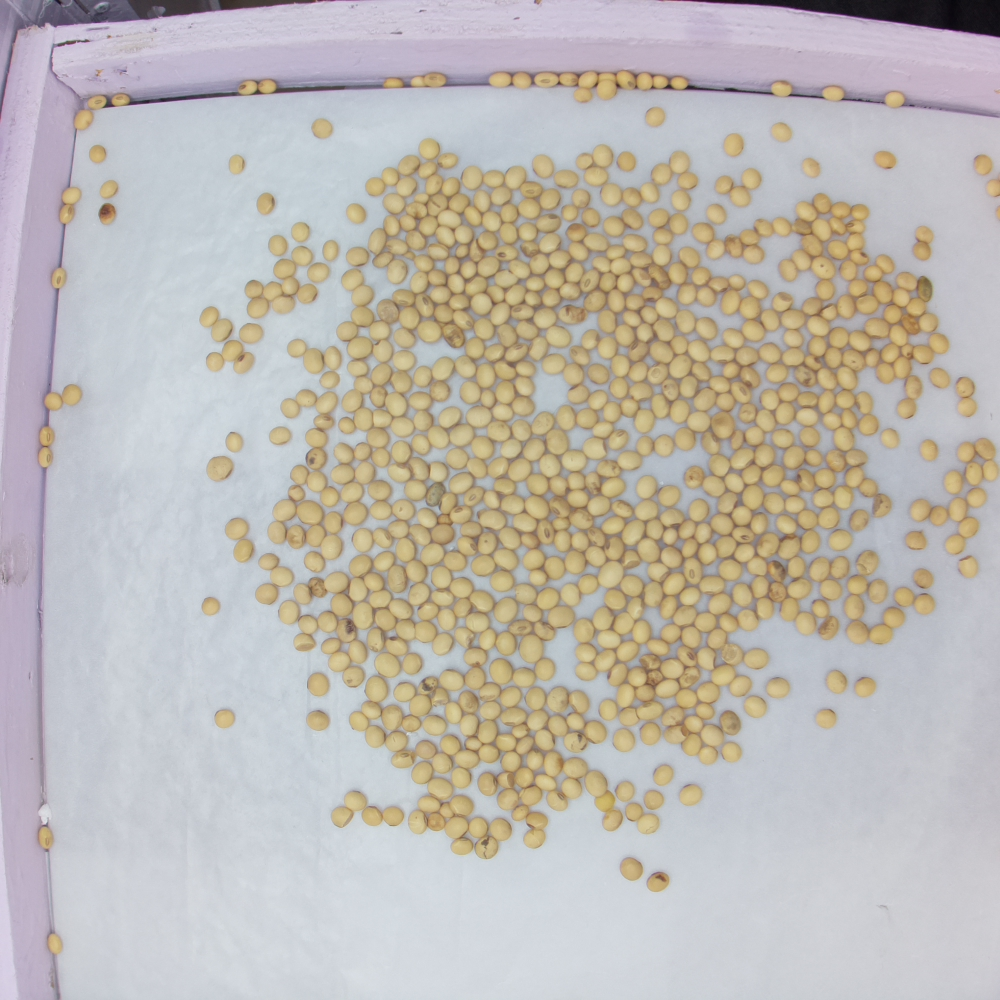soya: (207, 456, 233, 482), (374, 653, 399, 679), (519, 635, 542, 663), (537, 453, 563, 477), (572, 620, 598, 644), (598, 561, 621, 588), (712, 412, 735, 439), (490, 659, 512, 687), (546, 326, 571, 349), (324, 572, 350, 594), (811, 256, 835, 279), (525, 495, 548, 519), (508, 459, 531, 483), (494, 598, 517, 622), (584, 772, 607, 796), (533, 307, 558, 329), (719, 711, 741, 736), (419, 544, 444, 566), (765, 678, 791, 699), (478, 510, 505, 530), (622, 521, 645, 544), (469, 293, 492, 316), (211, 319, 234, 342), (696, 316, 718, 340), (487, 421, 511, 443), (568, 509, 592, 531), (761, 465, 785, 487), (524, 828, 548, 850), (679, 784, 701, 808), (633, 500, 658, 521), (743, 485, 764, 510), (827, 529, 852, 550), (297, 502, 322, 523), (278, 600, 299, 625), (562, 758, 587, 779), (548, 607, 573, 628), (525, 685, 545, 711), (720, 290, 739, 317), (367, 676, 386, 703), (354, 601, 371, 631), (694, 389, 717, 411), (619, 399, 641, 422), (531, 413, 554, 435), (504, 283, 526, 306), (662, 573, 685, 595), (737, 609, 759, 632), (744, 696, 767, 718), (408, 582, 430, 605), (245, 297, 268, 319), (865, 319, 889, 340), (843, 349, 864, 373), (649, 341, 673, 362), (609, 354, 630, 378), (474, 318, 495, 342), (492, 549, 516, 570), (669, 399, 690, 423), (729, 449, 753, 470), (731, 582, 752, 606), (271, 500, 295, 521), (653, 765, 674, 789), (547, 250, 572, 270), (546, 429, 566, 454), (653, 434, 673, 459), (676, 427, 696, 452), (305, 711, 330, 731), (616, 452, 642, 471), (836, 427, 854, 454), (543, 353, 565, 375), (431, 358, 453, 380), (438, 407, 460, 429), (406, 560, 428, 582), (526, 475, 549, 496), (758, 533, 779, 556), (779, 535, 800, 558), (418, 322, 441, 343), (385, 393, 406, 416), (470, 438, 493, 459), (255, 583, 278, 604), (513, 667, 536, 688), (462, 668, 485, 689), (445, 816, 468, 837), (631, 620, 652, 643), (532, 154, 552, 178), (504, 343, 528, 363), (562, 451, 586, 471), (512, 397, 536, 417), (565, 551, 585, 575), (655, 319, 675, 343), (848, 621, 868, 645), (321, 535, 341, 559), (339, 483, 363, 503), (439, 670, 463, 690), (621, 858, 641, 882), (490, 302, 509, 327), (556, 406, 575, 431), (603, 807, 622, 832), (305, 349, 323, 375), (636, 703, 662, 721), (608, 663, 626, 689), (801, 235, 823, 256), (688, 340, 709, 362), (587, 364, 608, 386), (493, 360, 515, 381), (638, 539, 659, 561), (670, 355, 691, 377), (710, 515, 732, 536), (639, 723, 660, 745), (413, 410, 435, 431), (349, 555, 370, 577), (354, 461, 375, 483), (491, 818, 512, 840), (344, 791, 366, 812), (365, 726, 386, 748), (782, 447, 804, 468), (616, 639, 637, 661), (584, 722, 606, 743), (419, 137, 439, 160), (837, 367, 857, 390), (587, 391, 610, 411), (495, 381, 515, 404), (620, 209, 643, 229), (744, 650, 767, 670), (855, 676, 875, 699), (316, 390, 336, 413), (344, 503, 364, 526), (234, 353, 254, 376), (362, 805, 382, 828), (387, 261, 406, 285), (593, 144, 612, 168), (615, 324, 634, 348), (598, 310, 617, 334), (684, 467, 703, 491), (810, 557, 829, 581), (330, 464, 354, 483), (415, 293, 434, 317), (477, 774, 496, 798), (646, 871, 670, 890), (796, 612, 814, 637), (430, 526, 455, 544), (389, 564, 405, 592), (544, 752, 561, 778), (807, 316, 828, 337), (829, 327, 850, 348), (849, 331, 870, 352), (679, 247, 700, 268), (658, 486, 679, 507), (621, 576, 642, 597), (870, 625, 891, 646), (472, 591, 493, 612), (279, 399, 300, 420), (403, 654, 424, 675), (798, 426, 819, 447), (594, 650, 615, 671), (478, 720, 499, 741), (398, 154, 418, 176), (307, 263, 327, 285), (461, 166, 481, 188), (583, 292, 605, 312), (816, 368, 836, 390), (759, 342, 781, 362), (677, 284, 697, 306), (652, 245, 672, 267), (500, 439, 522, 459), (484, 343, 504, 365), (561, 584, 581, 606), (588, 496, 610, 516), (717, 493, 739, 513), (696, 682, 718, 702), (447, 448, 467, 470), (392, 500, 414, 520), (225, 517, 247, 537), (232, 540, 252, 562), (412, 762, 432, 784), (415, 622, 435, 644), (344, 667, 364, 689), (594, 609, 614, 631), (637, 814, 659, 834), (239, 324, 262, 343), (566, 347, 589, 366), (515, 321, 538, 340), (602, 478, 625, 497), (456, 356, 475, 379), (465, 277, 488, 296), (687, 413, 710, 432), (776, 402, 795, 425), (788, 578, 811, 597), (682, 734, 701, 757), (656, 680, 679, 699), (398, 307, 417, 330), (407, 457, 426, 480), (352, 529, 371, 552), (343, 390, 362, 413), (385, 732, 408, 751), (332, 593, 351, 616), (725, 132, 743, 156), (710, 666, 734, 684), (662, 726, 686, 744), (270, 568, 294, 586), (464, 649, 488, 667), (428, 780, 452, 798), (615, 729, 633, 753), (684, 559, 701, 584), (312, 119, 333, 139), (383, 195, 404, 215), (519, 198, 539, 219), (800, 157, 820, 178), (858, 416, 878, 437), (743, 321, 764, 341), (740, 298, 760, 319), (697, 286, 717, 307), (496, 325, 517, 345), (549, 497, 569, 518), (612, 499, 632, 520), (731, 382, 751, 403), (708, 456, 729, 476), (719, 560, 740, 580), (714, 538, 735, 558), (675, 607, 696, 627), (410, 524, 430, 545), (303, 551, 323, 572), (198, 306, 218, 327), (409, 696, 430, 716), (432, 567, 452, 588), (317, 612, 338, 632), (308, 674, 329, 694), (754, 446, 774, 467), (605, 589, 625, 610), (560, 778, 581, 798), (594, 792, 615, 812), (584, 167, 606, 186), (781, 310, 803, 329), (692, 223, 714, 242), (598, 337, 617, 359), (609, 378, 628, 400), (601, 517, 623, 536), (584, 439, 606, 458), (736, 347, 758, 366), (766, 365, 788, 384), (689, 500, 708, 522), (731, 676, 750, 698), (849, 510, 868, 532), (661, 660, 683, 679), (391, 418, 413, 437), (472, 555, 494, 574), (347, 338, 369, 357), (268, 427, 290, 446), (222, 341, 241, 363), (501, 685, 520, 707), (458, 692, 477, 714), (381, 706, 400, 728), (389, 600, 411, 619), (573, 663, 595, 682), (569, 690, 588, 712), (621, 236, 647, 252), (668, 263, 686, 286), (676, 309, 694, 332), (494, 269, 517, 287), (636, 477, 654, 500), (660, 509, 683, 527), (833, 487, 851, 510), (827, 671, 845, 694), (662, 707, 685, 725), (287, 525, 305, 548), (450, 797, 473, 815), (597, 631, 620, 649), (548, 691, 566, 714), (324, 346, 341, 370), (529, 337, 546, 361), (367, 482, 391, 499), (455, 750, 479, 767), (410, 811, 427, 835), (349, 577, 366, 601), (904, 299, 928, 316), (626, 597, 643, 621), (345, 205, 365, 225), (341, 269, 361, 289), (478, 256, 498, 276), (656, 298, 676, 318), (560, 282, 580, 302), (544, 269, 564, 289), (540, 189, 560, 209), (648, 363, 668, 383), (710, 594, 730, 614), (846, 595, 862, 620), (428, 426, 448, 446), (451, 578, 471, 598), (347, 308, 372, 324), (328, 651, 348, 671), (565, 262, 584, 283), (601, 184, 620, 205), (874, 282, 893, 303), (545, 557, 564, 578), (703, 477, 724, 496), (763, 494, 784, 513), (707, 628, 726, 649), (701, 725, 722, 744), (443, 553, 464, 572), (372, 363, 391, 384), (451, 769, 472, 788), (396, 682, 415, 703), (396, 539, 415, 560), (370, 590, 389, 611), (519, 786, 540, 805), (346, 248, 368, 266), (505, 166, 523, 188), (855, 392, 873, 414), (564, 363, 582, 385), (751, 577, 769, 599), (336, 443, 354, 465), (268, 523, 286, 545), (536, 659, 554, 681), (496, 791, 518, 809), (616, 781, 634, 803), (870, 580, 887, 603), (796, 469, 813, 492), (796, 409, 819, 426), (616, 685, 633, 708), (369, 228, 384, 254), (477, 364, 493, 388), (700, 578, 724, 594), (422, 718, 446, 734), (819, 391, 835, 415), (396, 177, 416, 196), (298, 284, 317, 304), (651, 164, 670, 184), (771, 122, 790, 142), (511, 420, 530, 440), (577, 409, 596, 429), (500, 529, 519, 549), (464, 487, 483, 507), (761, 390, 780, 410), (747, 558, 766, 578), (818, 509, 838, 528), (820, 581, 840, 600), (721, 742, 741, 761), (429, 462, 448, 482), (417, 508, 436, 528), (338, 323, 358, 342), (500, 752, 519, 772), (348, 712, 368, 731), (374, 552, 394, 571), (396, 620, 415, 640), (897, 272, 917, 291), (535, 731, 554, 751), (472, 191, 490, 212), (582, 271, 600, 292), (670, 152, 688, 173), (742, 168, 760, 189), (748, 281, 769, 299), (807, 335, 825, 356), (652, 228, 673, 246), (607, 431, 628, 449), (465, 338, 483, 359), (723, 329, 744, 347), (739, 368, 760, 386), (757, 410, 775, 431), (414, 367, 432, 388), (321, 486, 339, 507), (382, 809, 403, 827), (434, 634, 452, 655), (535, 775, 556, 793), (644, 791, 665, 809), (501, 711, 526, 726), (605, 217, 622, 239), (501, 497, 523, 514), (661, 378, 678, 400), (756, 598, 773, 620), (802, 530, 819, 552), (409, 393, 431, 410), (450, 507, 472, 524), (354, 408, 371, 430), (450, 838, 472, 855), (889, 325, 906, 347), (461, 714, 478, 736), (537, 216, 560, 232), (584, 234, 607, 250), (711, 346, 734, 362), (616, 612, 632, 635), (568, 242, 587, 261), (566, 385, 585, 404), (602, 403, 621, 422), (745, 426, 764, 445), (773, 429, 792, 448), (274, 259, 294, 277), (449, 194, 469, 212), (464, 207, 482, 227), (492, 185, 510, 205), (483, 211, 501, 231), (540, 234, 560, 252), (796, 202, 816, 220), (828, 241, 848, 259), (839, 260, 857, 280), (568, 490, 588, 508), (578, 575, 598, 593), (536, 590, 556, 608), (437, 227, 455, 247), (652, 395, 667, 419), (736, 545, 756, 563), (718, 615, 738, 633), (781, 599, 796, 623), (815, 468, 833, 488), (323, 513, 341, 533), (440, 736, 460, 754), (526, 811, 546, 829), (516, 736, 534, 756), (520, 181, 541, 198), (508, 260, 529, 277), (743, 246, 764, 263), (816, 279, 833, 300), (486, 284, 503, 305), (572, 188, 589, 209), (788, 557, 805, 578), (799, 509, 816, 530), (648, 639, 669, 656), (306, 429, 327, 446), (547, 794, 568, 811), (438, 211, 460, 227), (607, 291, 623, 313), (571, 531, 587, 553), (597, 461, 619, 477), (708, 377, 730, 393), (732, 528, 754, 544), (832, 557, 848, 579), (430, 286, 452, 302), (393, 752, 415, 768), (526, 712, 548, 728), (599, 700, 615, 722), (814, 219, 829, 242), (511, 305, 534, 320), (256, 194, 274, 213), (291, 223, 309, 242), (268, 236, 286, 255), (291, 247, 310, 265), (499, 224, 517, 243), (616, 152, 635, 170), (707, 204, 725, 223), (877, 254, 895, 273), (784, 348, 803, 366), (784, 330, 803, 348), (580, 330, 599, 348), (541, 289, 559, 308), (848, 575, 867, 593), (816, 709, 835, 727), (677, 690, 696, 708), (660, 625, 679, 643), (439, 494, 458, 512), (433, 305, 452, 323), (454, 311, 472, 330), (418, 602, 437, 620), (388, 521, 407, 539), (912, 242, 931, 260), (576, 644, 595, 662), (548, 715, 567, 733), (646, 107, 663, 127), (754, 219, 774, 236), (793, 251, 810, 271), (884, 304, 901, 324), (648, 209, 668, 226), (492, 404, 512, 421), (582, 207, 599, 227), (566, 223, 586, 240), (739, 403, 756, 423), (733, 506, 750, 526), (695, 703, 715, 720), (295, 390, 315, 407), (293, 584, 310, 604), (415, 742, 435, 759), (470, 818, 487, 838), (361, 703, 381, 720), (881, 343, 898, 363), (482, 171, 503, 187), (678, 172, 699, 188), (761, 310, 777, 331), (637, 436, 653, 457), (426, 176, 442, 197), (845, 467, 861, 488), (432, 757, 453, 773), (527, 750, 543, 771), (592, 422, 614, 437), (461, 522, 483, 537), (350, 641, 365, 663), (365, 178, 383, 196), (518, 223, 536, 241), (692, 362, 710, 380), (699, 746, 717, 764), (367, 572, 385, 590), (497, 733, 515, 751), (244, 280, 261, 299), (455, 225, 472, 244), (477, 232, 496, 249), (640, 184, 659, 201), (731, 186, 748, 205), (882, 429, 899, 448), (617, 274, 634, 293), (599, 273, 616, 292), (610, 258, 629, 275), (717, 394, 736, 411), (726, 474, 743, 493), (777, 515, 796, 532), (813, 489, 832, 506), (468, 459, 485, 478), (206, 353, 223, 372), (893, 289, 910, 308), (424, 272, 447, 286), (381, 167, 397, 187), (780, 261, 796, 281), (850, 203, 870, 219), (669, 214, 685, 234), (784, 497, 804, 513), (370, 502, 390, 518), (354, 442, 370, 462), (386, 638, 406, 654), (798, 393, 818, 409), (531, 254, 546, 275), (554, 530, 569, 551), (631, 361, 646, 382), (751, 513, 766, 534), (449, 294, 470, 309), (772, 218, 790, 235), (727, 273, 745, 290), (692, 267, 710, 284), (412, 435, 429, 453), (307, 473, 325, 490), (915, 226, 933, 243), (383, 217, 399, 236), (623, 188, 639, 207), (831, 201, 850, 217), (708, 240, 724, 259), (588, 528, 604, 547), (780, 479, 799, 495), (353, 377, 372, 393), (229, 155, 244, 175), (272, 297, 292, 312), (814, 193, 829, 213), (709, 276, 729, 291), (226, 432, 241, 452), (307, 525, 322, 545), (479, 704, 499, 719), (400, 718, 420, 733), (439, 609, 454, 629), (432, 590, 452, 605), (346, 361, 367, 375), (443, 178, 460, 195), (672, 192, 689, 209), (849, 233, 866, 250), (685, 716, 702, 733), (263, 282, 281, 298), (714, 177, 732, 193), (516, 378, 532, 396), (460, 261, 476, 279), (859, 480, 877, 496), (636, 687, 654, 703), (373, 530, 391, 546), (385, 240, 407, 253), (437, 152, 456, 167), (501, 204, 516, 223), (856, 297, 875, 312), (591, 257, 610, 272), (625, 295, 644, 310), (672, 336, 687, 355), (393, 290, 412, 305), (480, 685, 499, 700), (878, 365, 893, 384), (323, 240, 337, 260), (516, 362, 536, 376), (320, 372, 340, 386), (287, 340, 304, 356), (484, 491, 500, 508), (640, 306, 657, 322), (812, 600, 828, 617), (372, 322, 388, 339), (259, 554, 276, 570), (864, 265, 882, 280), (850, 279, 865, 297), (411, 273, 426, 291), (420, 797, 438, 812), (418, 162, 435, 177), (741, 230, 759, 244), (822, 415, 840, 429), (606, 245, 625, 258), (282, 278, 297, 294), (846, 221, 866, 233), (562, 205, 577, 221), (724, 363, 740, 378), (842, 412, 856, 429), (625, 804, 642, 818), (568, 713, 582, 729), (732, 431, 744, 449), (516, 770, 531, 784), (498, 774, 513, 788), (623, 311, 639, 324), (446, 257, 458, 274), (868, 349, 879, 367), (513, 725, 528, 738), (456, 246, 467, 257)
